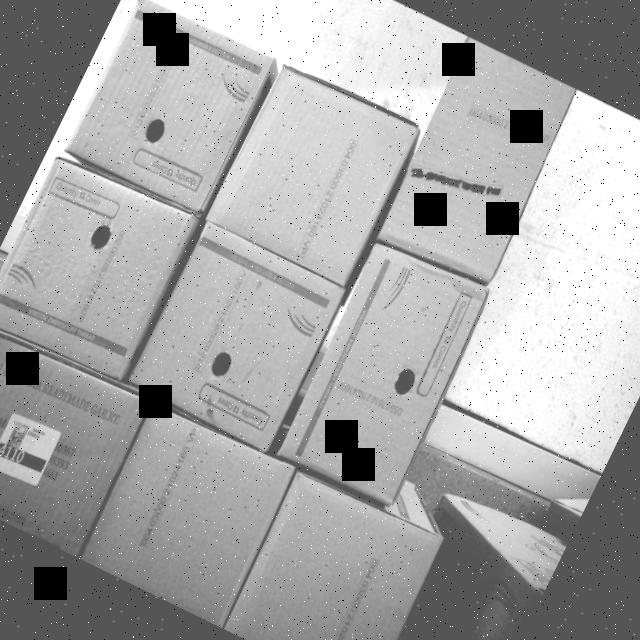box: (272, 236, 490, 507), (372, 36, 582, 288), (72, 397, 300, 628), (125, 219, 351, 450), (204, 62, 420, 284), (62, 0, 281, 218), (0, 155, 197, 381), (225, 469, 447, 640), (0, 330, 147, 556)
